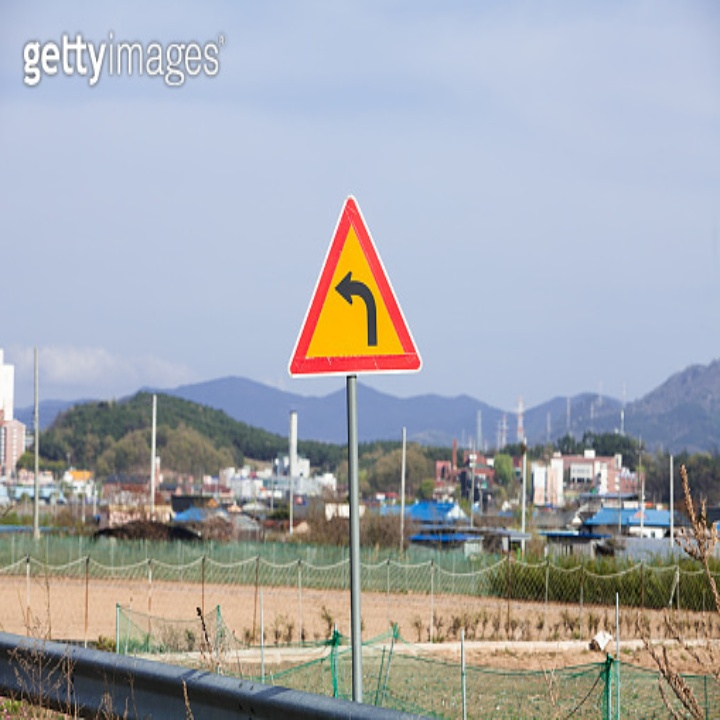left: (327, 264, 388, 351)
